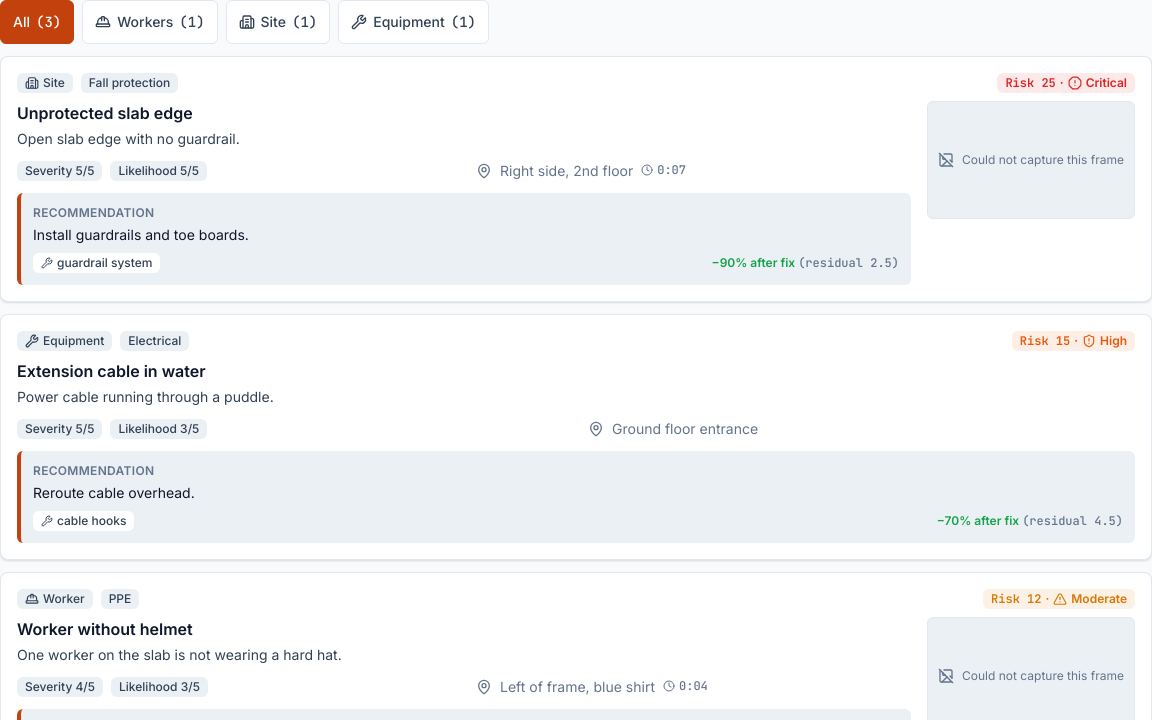
Test: FindingsList › sorts by risk desc and filters by subject
This screenshot has width=1152, height=720.
Expected: the headings read "Unprotected slab edge", "Extension cable in water", "Worker without helmet", in this order, [17,103,193,123]; [17,361,206,381]; [17,619,193,639]
Click the button "Workers (1)" at [150, 22], box [82,0,218,44]
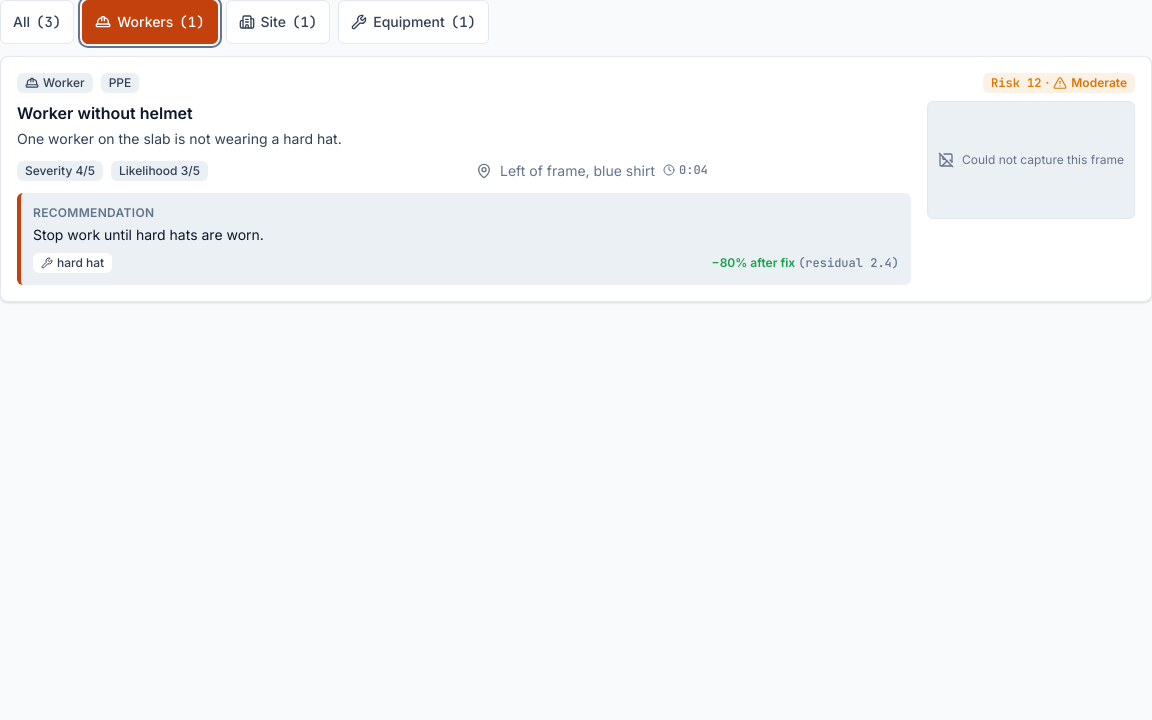
Expected: the heading reads "Worker without helmet", [17,103,193,123]
Result: the number of headings is 1 at [17,103,193,123]
Click the button "All (3)" at [37, 22], box [0,0,74,44]
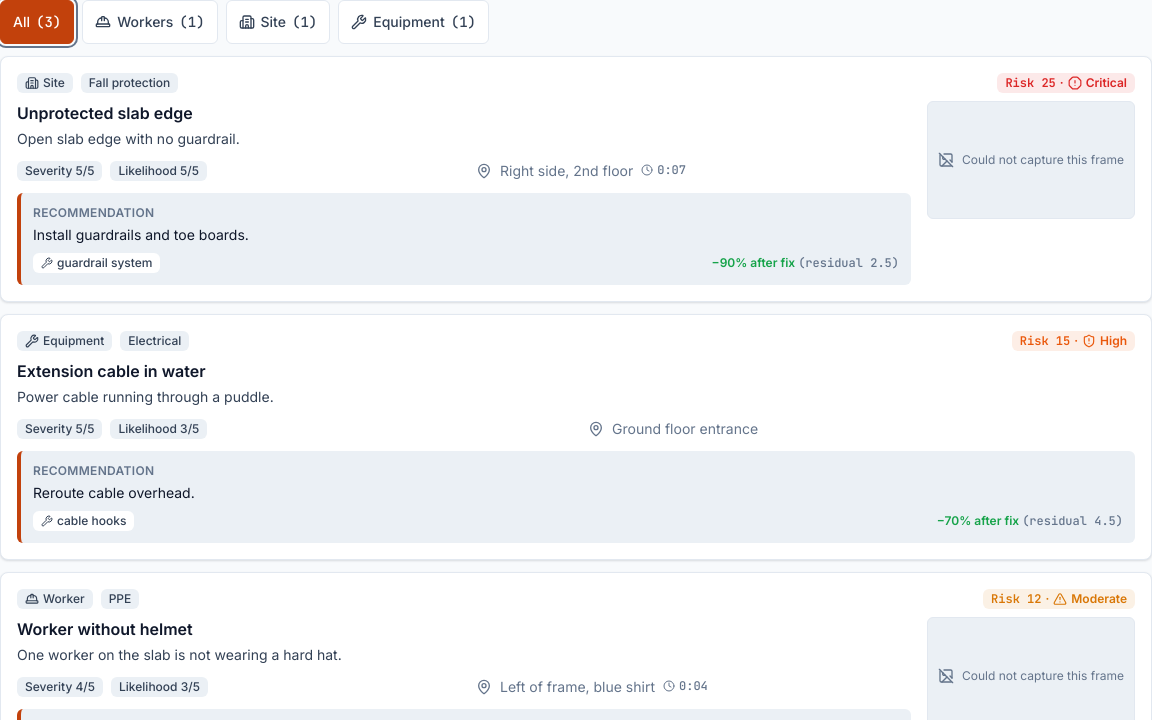
Result: the number of headings is 3 at [17,103,193,123]; [17,361,206,381]; [17,619,193,639]
